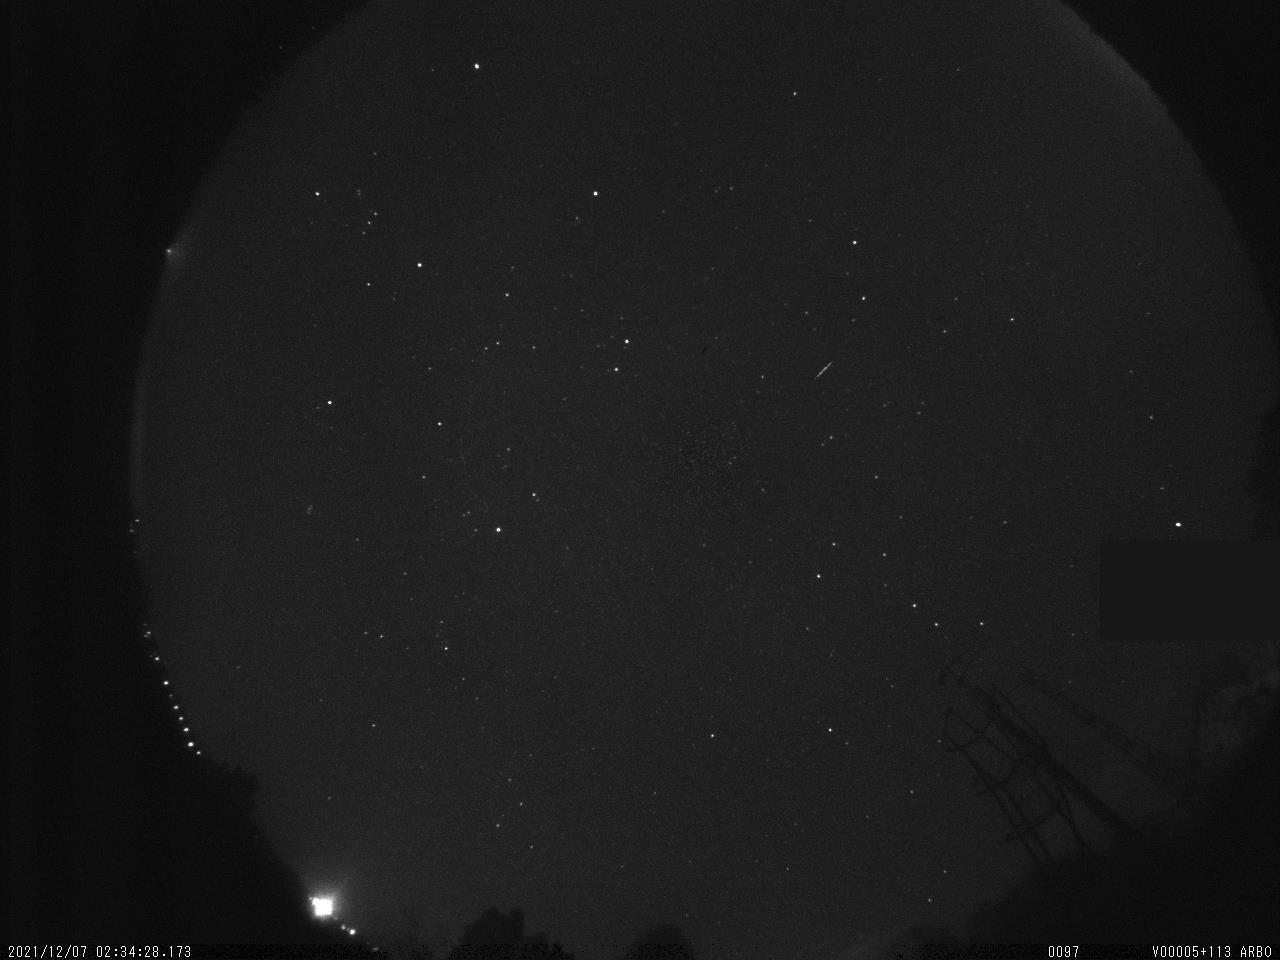Meteor: (808, 354, 838, 385)
